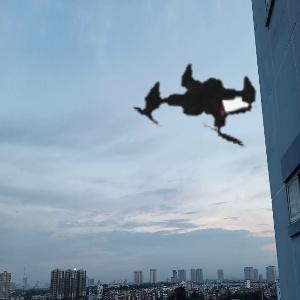drone: (108, 20, 292, 204)
